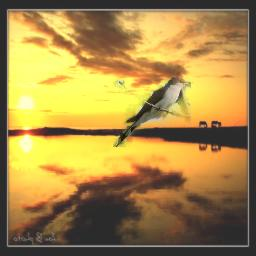Cuckoo: (113, 77, 191, 147)
